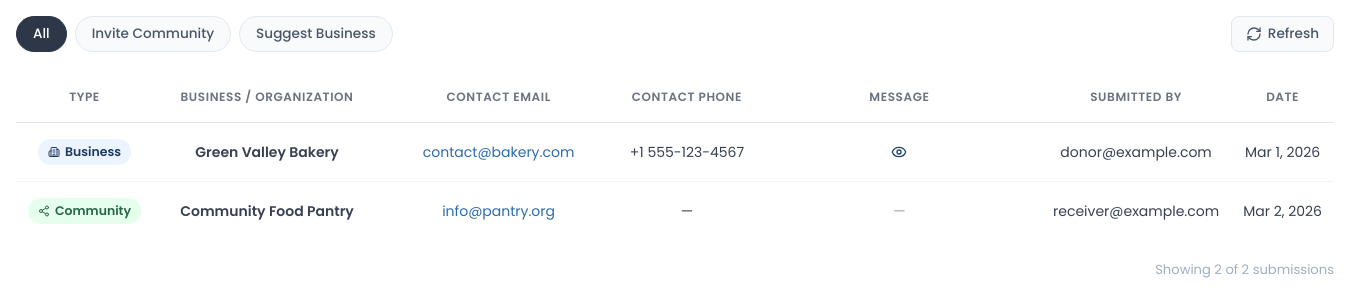
Scenario: AdminReferrals › filters by SUGGEST_BUSINESS type
expect the table with test id "referrals-table" is shown: met, box x1=16 y1=72 x2=1334 y2=240
Click the button "Suggest Business". click: (316, 34)
box: x1=239 y1=16 x2=393 y2=52
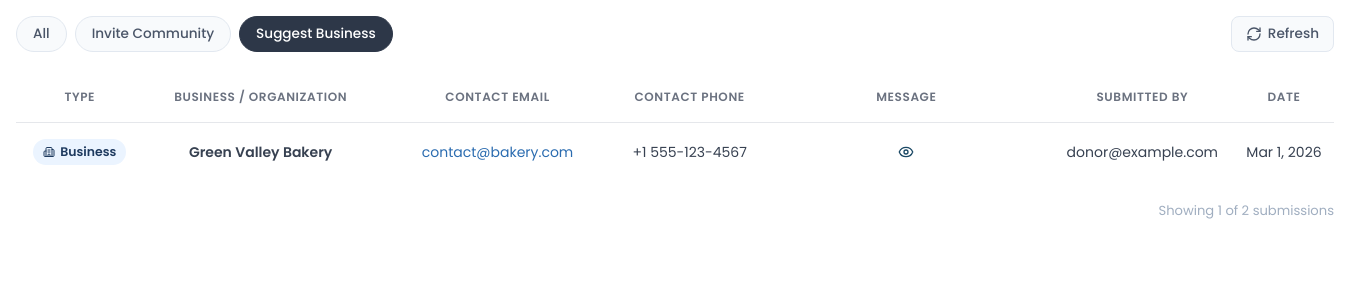
expect the text "Green Valley Bakery" is shown: met, box x1=144 y1=122 x2=378 y2=181
expect the text "Community Food Pantry" is gone: met
expect the text "Showing 1 of 2 submissions" is shown: met, box x1=1158 y1=201 x2=1334 y2=220
